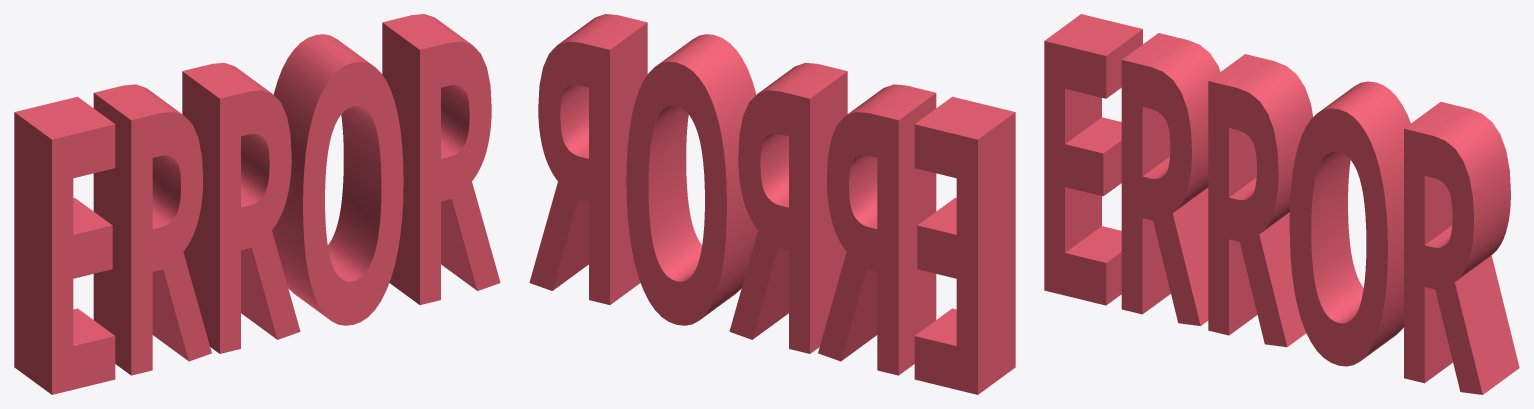
File: error_recreation.gltf
3 renders of one model, left to right at view 1: azimuth 30°, elevation 25°; view 2: azimuth 150°, elevation 25°; view 3: azimuth 330°, elevation 25°, orthographic. The views are drawn at different scales.
Visible parts, largest first — view 1: ErrorRecreationMesh; view 2: ErrorRecreationMesh; view 3: ErrorRecreationMesh.
Part boxes in pixels (x1=…): ErrorRecreationMesh: x1=14, y1=14, x2=500, y2=394; ErrorRecreationMesh: x1=529, y1=14, x2=1015, y2=394; ErrorRecreationMesh: x1=1044, y1=14, x2=1519, y2=394.
Bounding box in the file's own units: 1.7 × 0.9525 × 0.2479.
